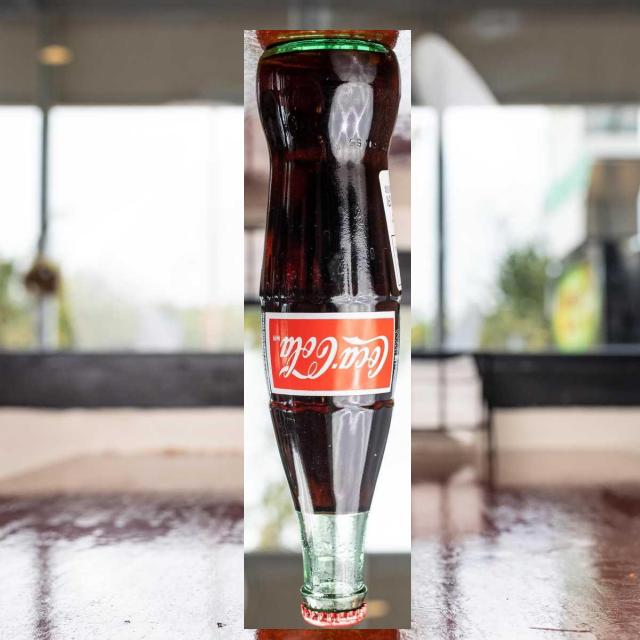coca-cola: (244, 30, 411, 629)
